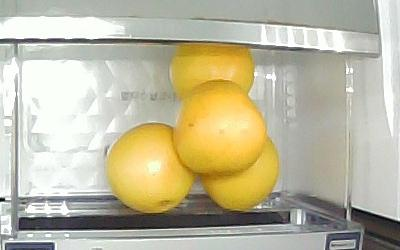grapefruit: (174, 81, 265, 172), (106, 122, 195, 213), (198, 133, 278, 211), (167, 45, 254, 103)
